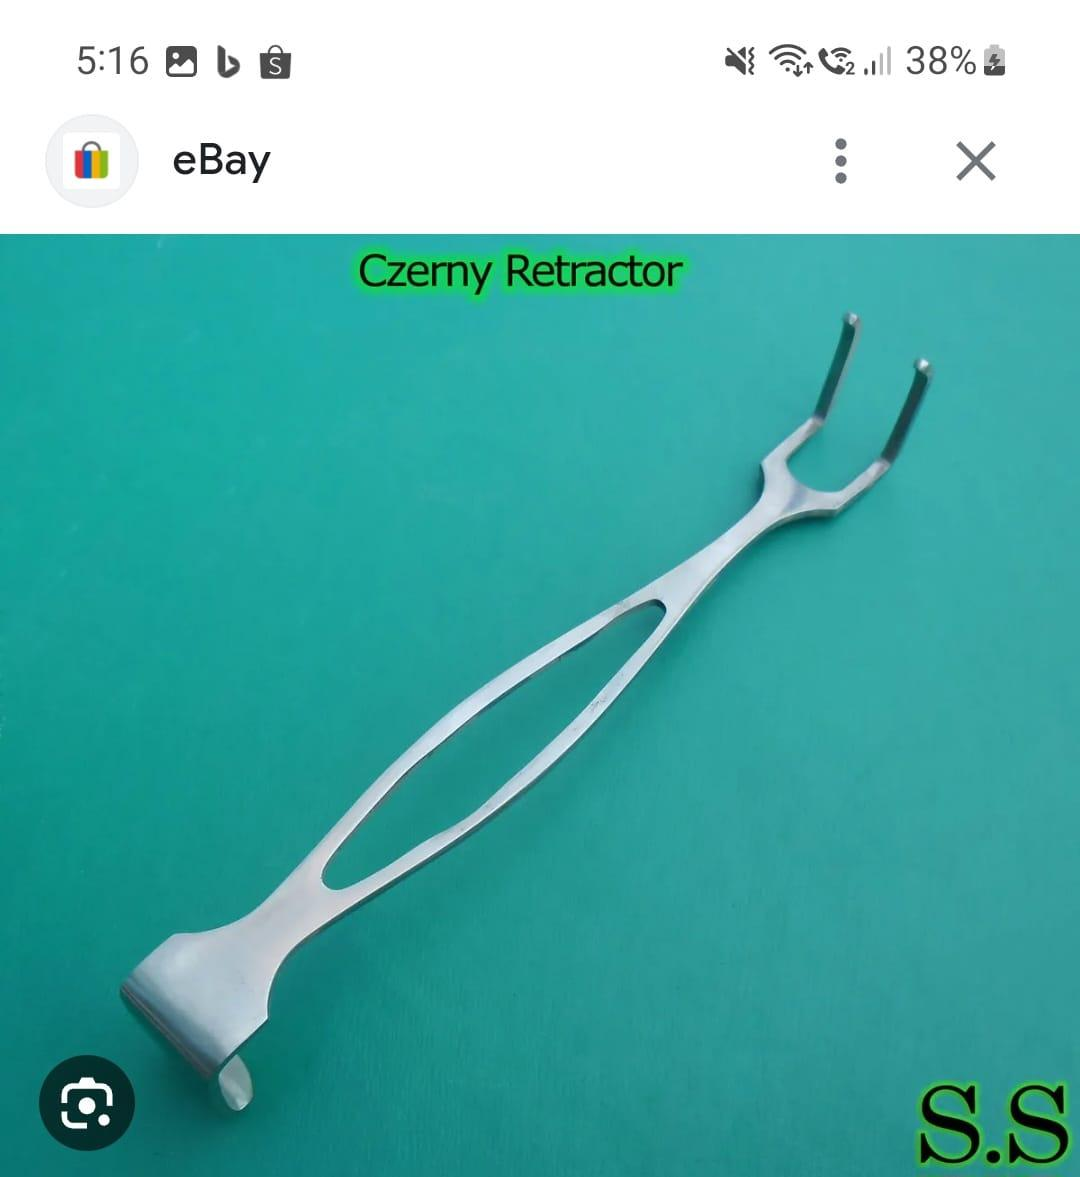Czerney Retractor: (115, 305, 940, 1128)
